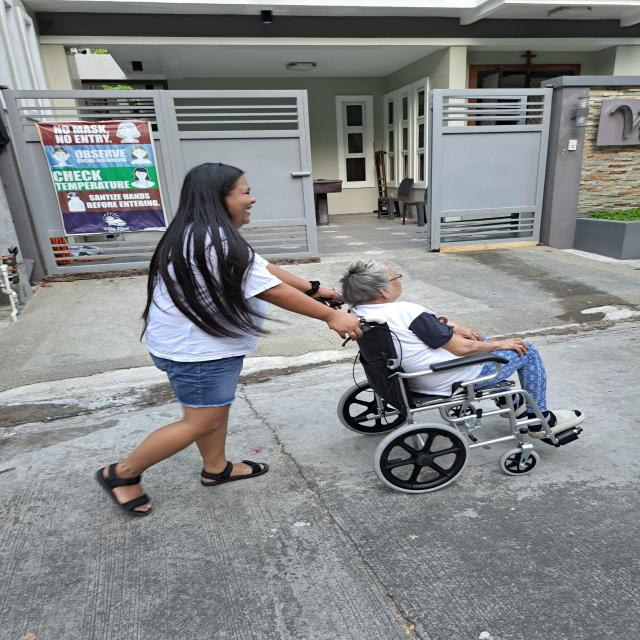wheelchairs: (316, 293, 592, 502)
